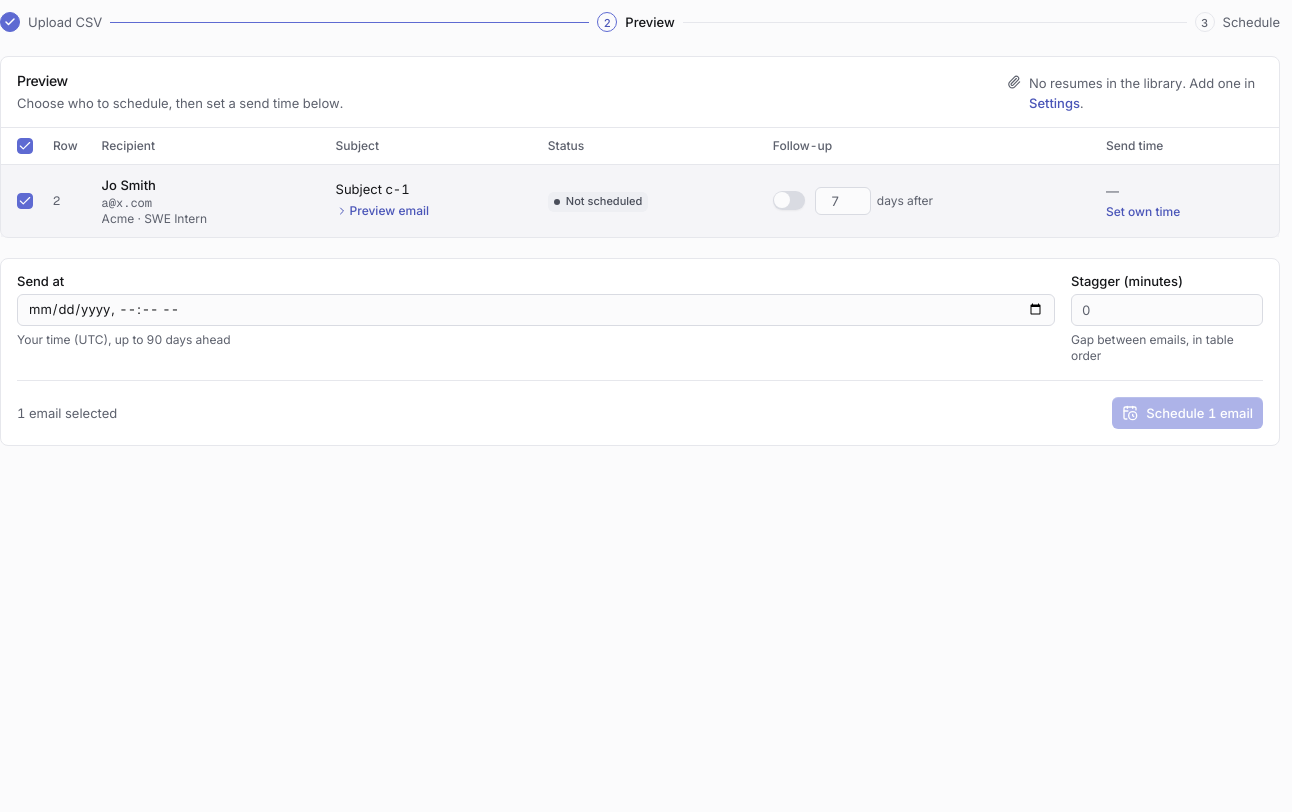
Test case: BatchScheduler › renders the email preview as plain text, never as markup
The width and height of the screenshot is (1292, 812).
Click the button with aria-label "preview email to a@x.com".
click(382, 211)  # box [336, 203, 429, 219]
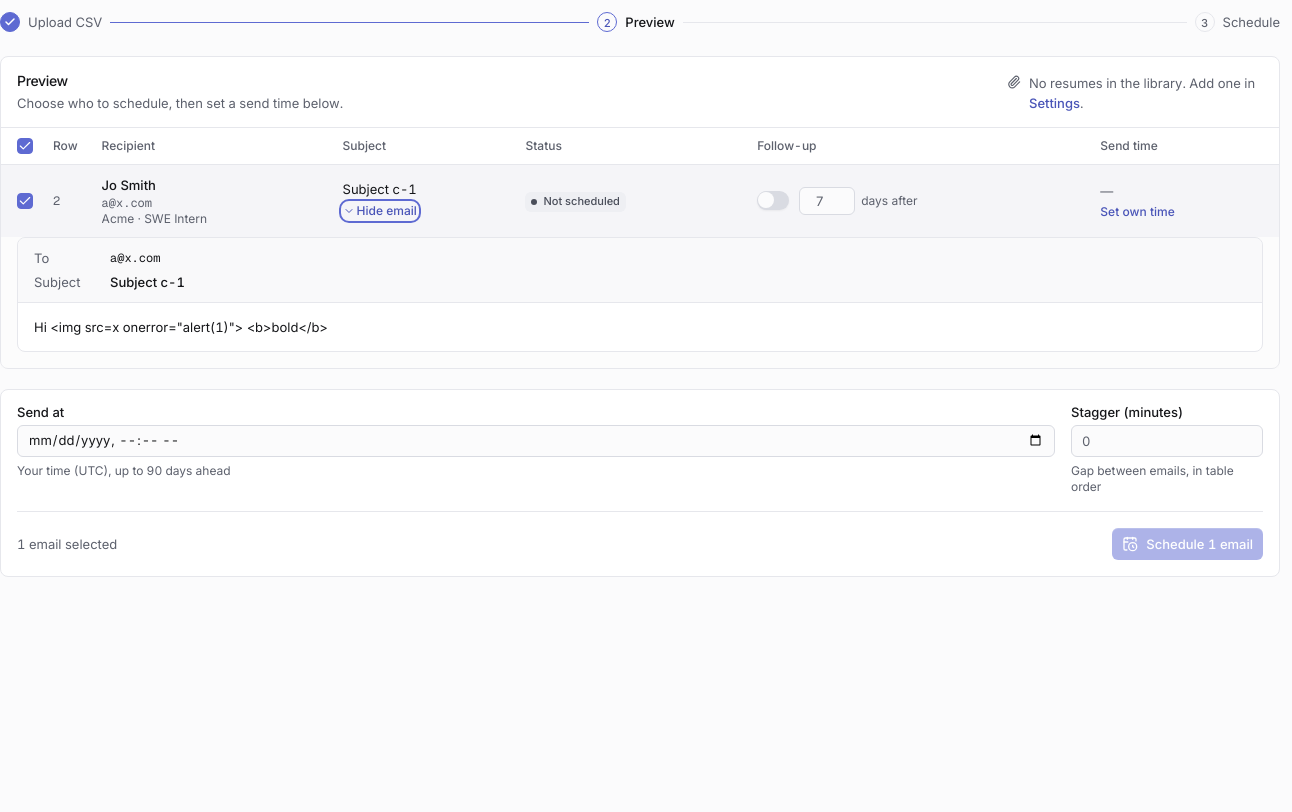
Expected: the text "Hi <img src=x onerror=\"alert(1)\"> <b>bold</b>" is shown, [34, 318, 328, 334]
